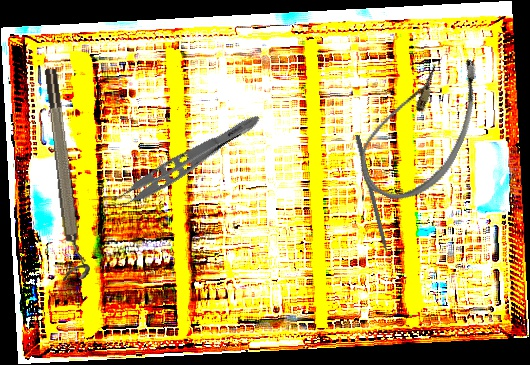Cannula: (348, 34, 496, 217)
Fixation Ring: (40, 67, 92, 281)
Hook Surgical: (353, 134, 393, 270)
Tissue Forceps: (102, 100, 264, 220)
